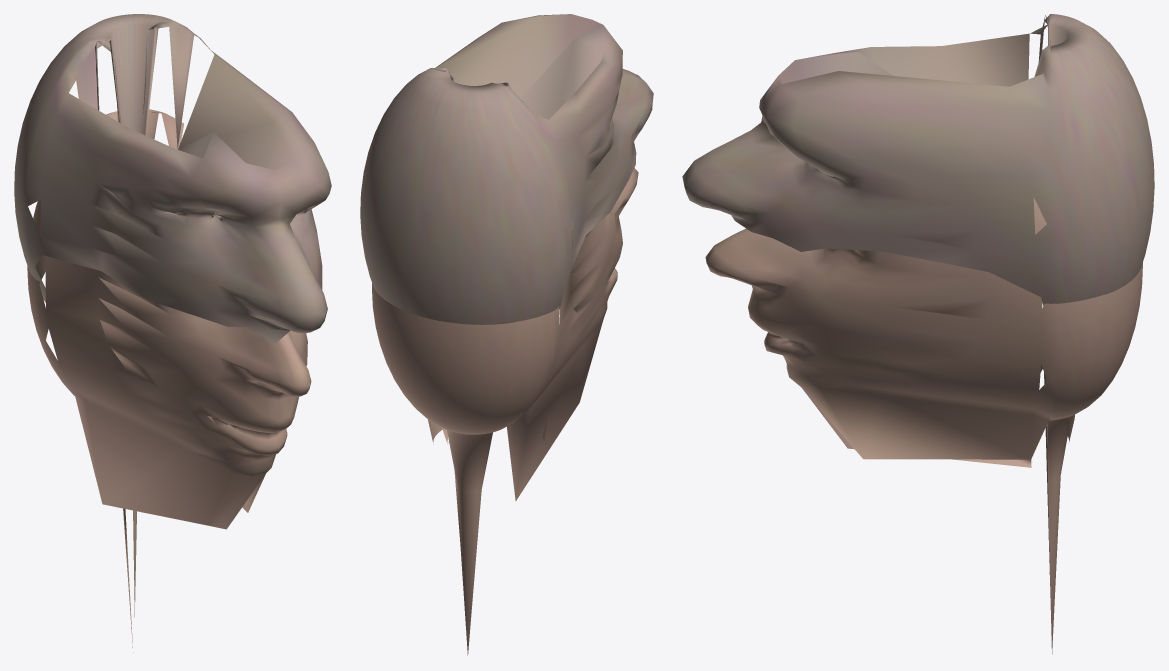
The model's file is face_mesh_dcad0ac4.glb.
3 renders of one model, left to right at view 1: azimuth 30°, elevation 25°; view 2: azimuth 150°, elevation 25°; view 3: azimuth 270°, elevation 25°, orthographic. The views are drawn at different scales.
Visible parts, largest first — view 1: world; view 2: world; view 3: world.
Boxes of the visible parts, x1,y1,x2,y2 form: world: (14,14,331,652); world: (360,14,653,655); world: (682,14,1154,654).
Bounding box in the file's own units: 0.1167 × 0.3282 × 0.2249.
